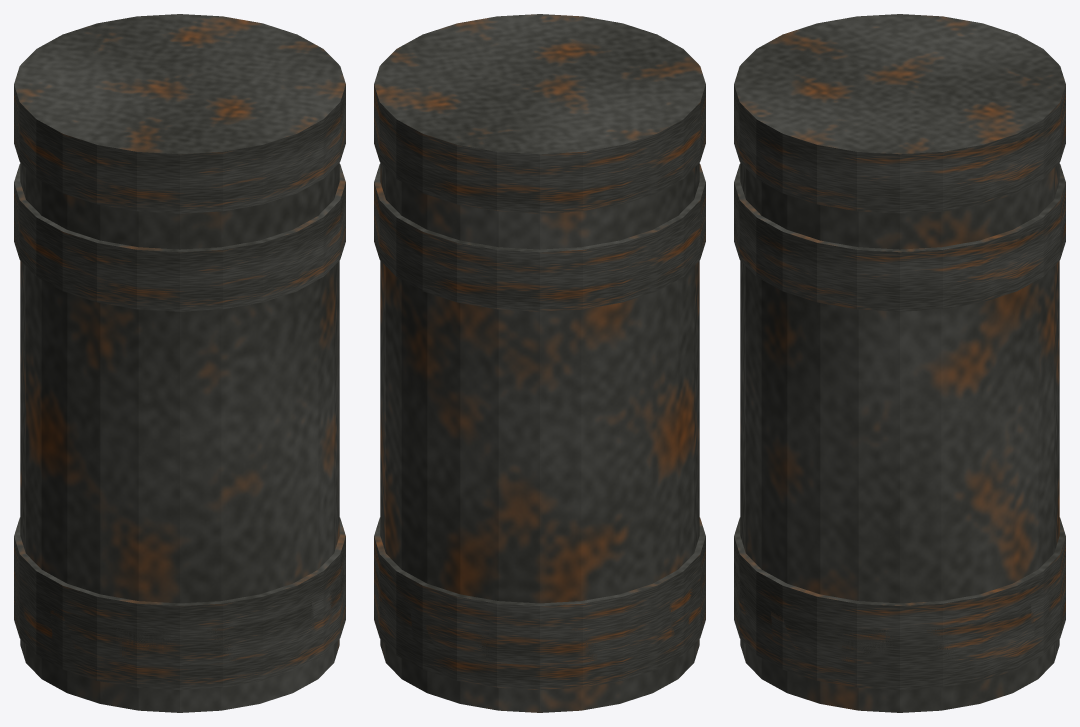
File: baterai.glb
3 renders of one model, left to right at view 1: azimuth 30°, elevation 25°; view 2: azimuth 150°, elevation 25°; view 3: azimuth 270°, elevation 25°, orthographic.
Parts seen in each view (by area): view 1: Badan, Cincin.003, Cincin.002, Cincin, Cincin.001; view 2: Badan, Cincin.003, Cincin.002, Cincin, Cincin.001; view 3: Badan, Cincin.003, Cincin.002, Cincin, Cincin.001.
Boxes of the visible parts, x1=… form: Badan: x1=20, y1=163, x2=339, y2=712; Cincin.003: x1=14, y1=14, x2=345, y2=213; Cincin.002: x1=14, y1=164, x2=345, y2=311; Cincin: x1=14, y1=561, x2=345, y2=689; Cincin.001: x1=14, y1=517, x2=345, y2=665; Badan: x1=380, y1=163, x2=699, y2=712; Cincin.003: x1=374, y1=14, x2=705, y2=213; Cincin.002: x1=374, y1=164, x2=705, y2=311; Cincin: x1=374, y1=561, x2=705, y2=689; Cincin.001: x1=374, y1=517, x2=705, y2=665; Badan: x1=740, y1=163, x2=1059, y2=712; Cincin.003: x1=734, y1=14, x2=1065, y2=213; Cincin.002: x1=734, y1=164, x2=1065, y2=311; Cincin: x1=734, y1=561, x2=1065, y2=689; Cincin.001: x1=734, y1=517, x2=1065, y2=665.
Bounding box in the file's own units: 0.0354 × 0.066 × 0.0354.
2 materials, 1 textured.
